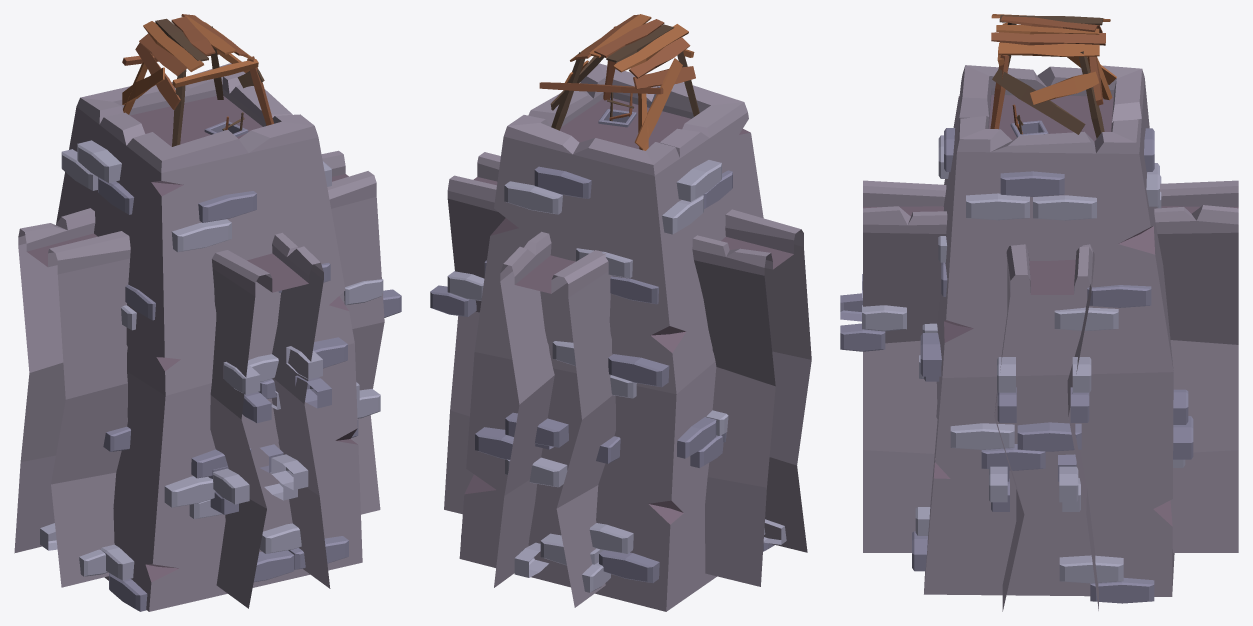
Rendered from TowerBuilding.fbx.
3 renders of one model, left to right at view 1: azimuth 30°, elevation 25°; view 2: azimuth 150°, elevation 25°; view 3: azimuth 270°, elevation 25°, orthographic. The views are drawn at different scales.
Parts seen in each view (by area): view 1: Wall Joint, Wall2, Wall1, Wall3; view 2: Wall Joint, Wall2, Wall4, Wall3; view 3: Wall Joint, Wall1, Wall4, Wall3.
Part boxes in pixels (x1,y1,x2,y2): Wall Joint: [56, 14, 362, 611]; Wall2: [14, 208, 130, 587]; Wall1: [208, 232, 331, 608]; Wall3: [321, 150, 401, 514]; Wall Joint: [459, 14, 774, 611]; Wall2: [692, 209, 811, 586]; Wall4: [494, 231, 620, 607]; Wall3: [430, 152, 505, 514]; Wall Joint: [912, 14, 1193, 603]; Wall1: [840, 180, 947, 552]; Wall4: [1154, 180, 1238, 552]; Wall3: [989, 244, 1098, 611].
Bounding box in the file's own units: 106 × 154 × 106.
